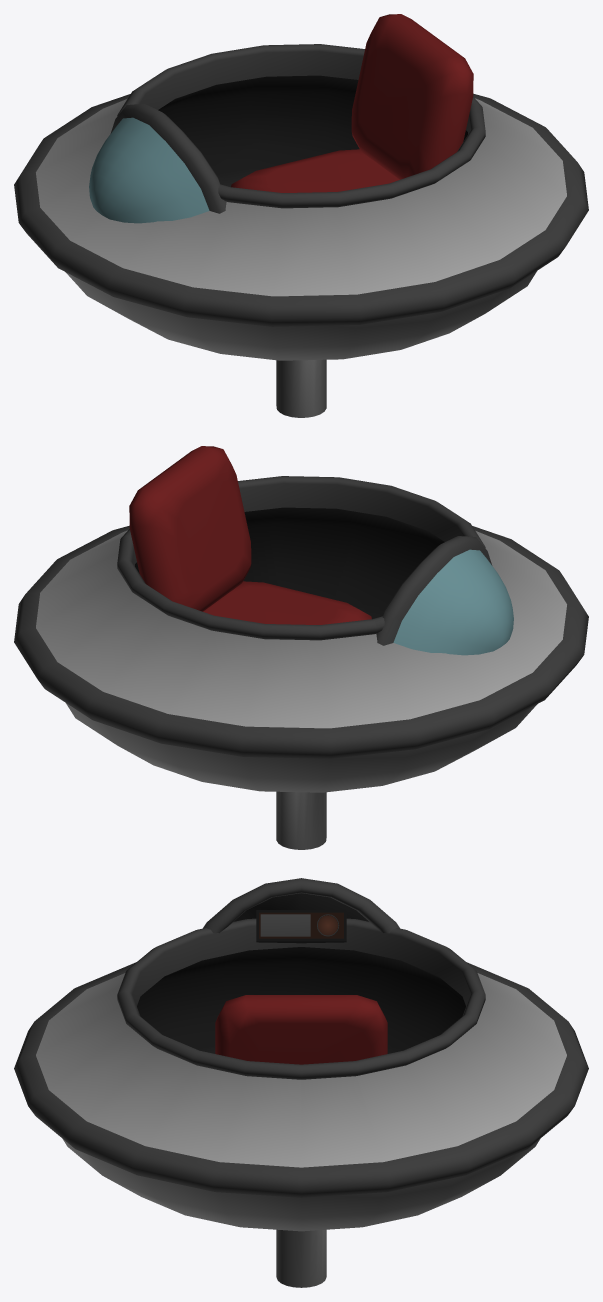
Rendered from UFO.fbx.
3 views of the same model, one above another, from view 1: azimuth 30°, elevation 25°; view 2: azimuth 150°, elevation 25°; view 3: azimuth 270°, elevation 25° (orthographic).
Parts seen in each view (by area): view 1: polySurface5; view 2: polySurface5; view 3: polySurface5.
Boxes of the visible parts, bbox=[...] form: polySurface5: bbox=[14, 14, 588, 417]; polySurface5: bbox=[14, 446, 588, 849]; polySurface5: bbox=[14, 878, 588, 1287].
Bounding box in the file's own units: 2.16 × 1.41 × 2.16.
